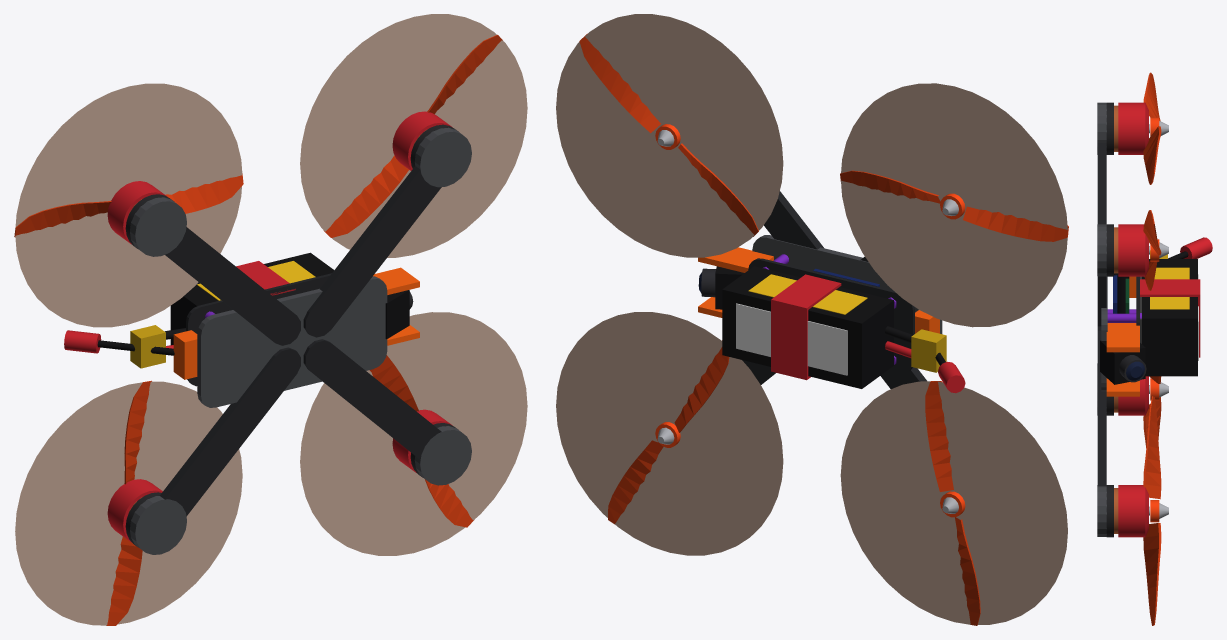
File: exterior.glb
The picture shows the model from 3 angles, left to right: view 1: azimuth 30°, elevation 25°; view 2: azimuth 150°, elevation 25°; view 3: azimuth 270°, elevation 25°; orthographic projection. The views are drawn at different scales.
Parts seen in each view (by area): view 1: frame, disc_1, disc_3, disc_2, disc_4, motors, prop_2, prop_3, battery, prop_1, prop_4, camera; view 2: disc_1, disc_4, disc_2, disc_3, battery, frame, prop_3, prop_2, prop_1, prop_4, camera; view 3: motors, frame, battery, prop_4, camera, prop_1, prop_2, prop_3, stack.
Boxes of the visible parts, x1,y1,x2,y2 form: frame: [64, 127, 471, 554]; disc_1: [15, 83, 242, 327]; disc_3: [15, 381, 242, 625]; disc_2: [300, 14, 527, 257]; disc_4: [300, 312, 527, 555]; motors: [107, 111, 458, 547]; prop_2: [323, 34, 502, 237]; prop_3: [106, 380, 151, 625]; battery: [170, 252, 334, 345]; prop_1: [14, 173, 243, 236]; prop_4: [369, 355, 473, 527]; camera: [385, 290, 413, 339]; disc_1: [841, 83, 1067, 327]; disc_4: [556, 312, 783, 555]; disc_2: [556, 14, 783, 257]; disc_3: [840, 381, 1067, 624]; battery: [722, 266, 893, 388]; frame: [698, 191, 965, 393]; prop_3: [925, 381, 980, 625]; prop_2: [579, 33, 758, 236]; prop_1: [840, 170, 1068, 241]; prop_4: [608, 340, 729, 524]; camera: [698, 266, 744, 309]; motors: [1106, 102, 1149, 537]; frame: [1097, 102, 1212, 536]; battery: [1140, 259, 1200, 376]; prop_4: [1143, 396, 1168, 625]; camera: [1100, 340, 1146, 384]; prop_1: [1143, 72, 1168, 184]; prop_2: [1143, 210, 1168, 290]; prop_3: [1143, 376, 1168, 447]; stack: [1113, 273, 1129, 313].
Bounding box in the file's own units: 0.286 × 0.286 × 0.0639.
